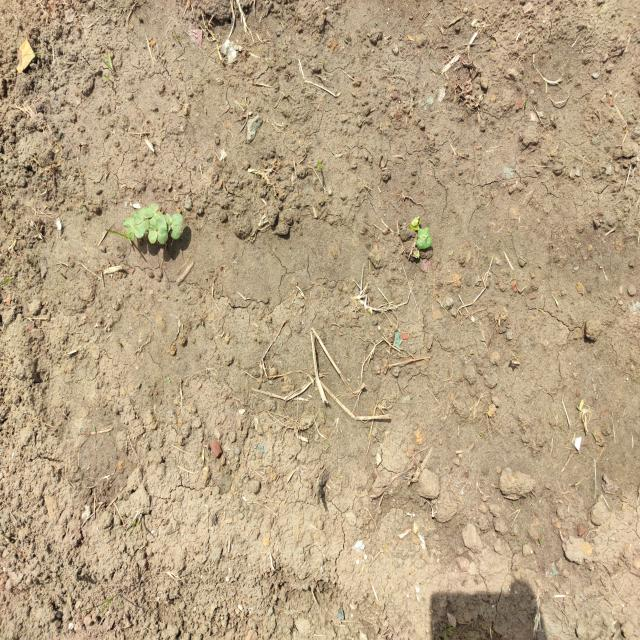seedling: (155, 217, 168, 244), (170, 213, 183, 240), (123, 217, 134, 241), (143, 203, 158, 218), (148, 219, 157, 244), (134, 208, 147, 224), (417, 236, 433, 249), (138, 220, 149, 234), (152, 211, 163, 223), (417, 228, 430, 238)
